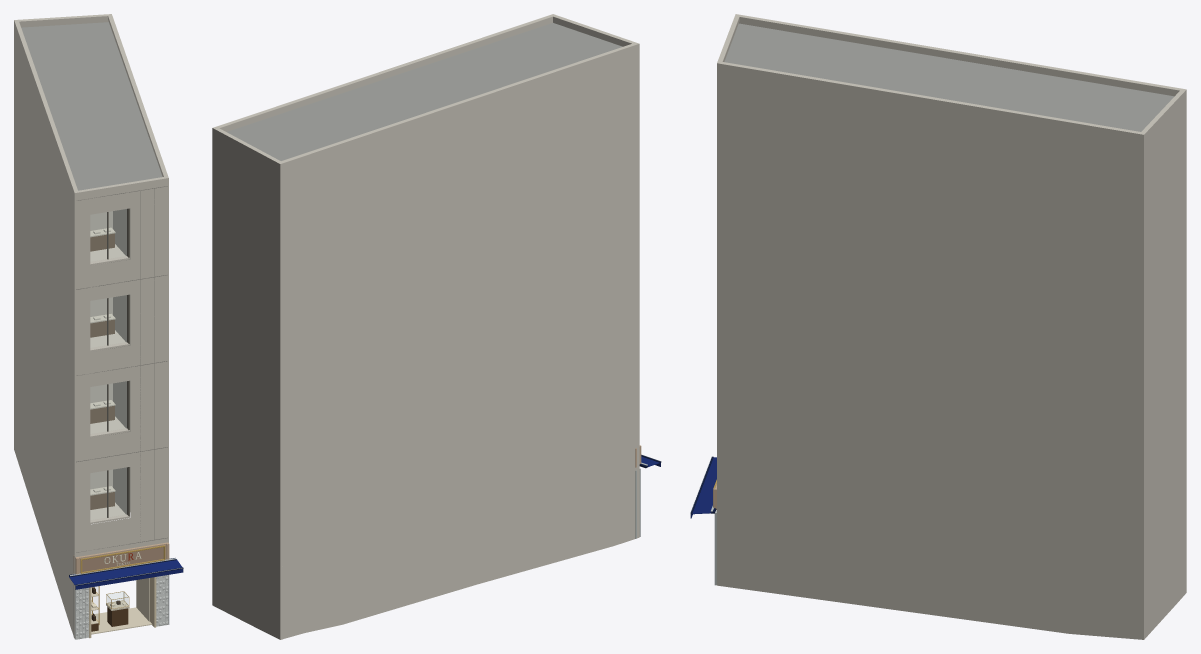
Rendered from d04-okura.glb.
The picture shows the model from 3 angles, left to right: view 1: azimuth 30°, elevation 25°; view 2: azimuth 150°, elevation 25°; view 3: azimuth 270°, elevation 25°; orthographic projection. The views are drawn at different scales.
Parts seen in each view (by area): view 1: d25_exact_okura_opaque_wall, SOURCE_ENVELOPE_INFERRED_FINISH_INFERRED_roof_finish, OPTIONAL_INFERRED_WINDOWS_INFERRED_clear_glazing, OPTIONAL_INFERRED_SHALLOW_RETAIL_INFERRED_light_retail_slice, D04_EXT_selfmade_royal_blue_canopy, D04_EST_INFERRED_pale_stone_and_ceiling, OPTIONAL_INFERRED_SHALLOW_RETAIL_INFERRED_display_cabinet, D04_EXT_selfmade_warm_white_ceramic, SOURCE_ENVELOPE_INFERRED_FINISH_INFERRED_recess_joint, D04_EXT_selfmade_warm_beige_fascia, OPTIONAL_INFERRED_WINDOWS_INFERRED_bronze_window_frame, OPTIONAL_INFERRED_WINDOWS_INFERRED_pale_warm_cladding (+8 smaller); view 2: d25_exact_okura_opaque_wall, SOURCE_ENVELOPE_INFERRED_FINISH_INFERRED_roof_finish, OKURA_ABANDONED_NORTH_OPENINGS_NEUTRAL_CLOSURE; view 3: d25_exact_okura_opaque_wall, SOURCE_ENVELOPE_INFERRED_FINISH_INFERRED_roof_finish, OKURA_ABANDONED_NORTH_OPENINGS_NEUTRAL_CLOSURE, D04_EXT_selfmade_royal_blue_canopy.
Part boxes in pixels (x1,y1,x2,y2): d25_exact_okura_opaque_wall: (14,14,168,638); SOURCE_ENVELOPE_INFERRED_FINISH_INFERRED_roof_finish: (21,22,162,190); OPTIONAL_INFERRED_WINDOWS_INFERRED_clear_glazing: (91,209,126,519); OPTIONAL_INFERRED_SHALLOW_RETAIL_INFERRED_light_retail_slice: (90,209,127,524); D04_EXT_selfmade_royal_blue_canopy: (69,559,182,589); D04_EST_INFERRED_pale_stone_and_ceiling: (91,578,152,634); OPTIONAL_INFERRED_SHALLOW_RETAIL_INFERRED_display_cabinet: (90,233,114,509); D04_EXT_selfmade_warm_white_ceramic: (76,575,168,639); SOURCE_ENVELOPE_INFERRED_FINISH_INFERRED_recess_joint: (76,186,167,552); D04_EXT_selfmade_warm_beige_fascia: (82,547,163,571); OPTIONAL_INFERRED_WINDOWS_INFERRED_bronze_window_frame: (107,208,129,517); OPTIONAL_INFERRED_WINDOWS_INFERRED_pale_warm_cladding: (90,256,129,523); d25_exact_okura_opaque_wall: (212,14,639,638); SOURCE_ENVELOPE_INFERRED_FINISH_INFERRED_roof_finish: (227,23,622,160); OKURA_ABANDONED_NORTH_OPENINGS_NEUTRAL_CLOSURE: (212,169,282,639); d25_exact_okura_opaque_wall: (717,14,1186,639); SOURCE_ENVELOPE_INFERRED_FINISH_INFERRED_roof_finish: (724,23,1174,131); OKURA_ABANDONED_NORTH_OPENINGS_NEUTRAL_CLOSURE: (1144,125,1186,639); D04_EXT_selfmade_royal_blue_canopy: (691,457,716,518).
Size of the model in its own units: 8.73 by 16.83 by 14.49.
